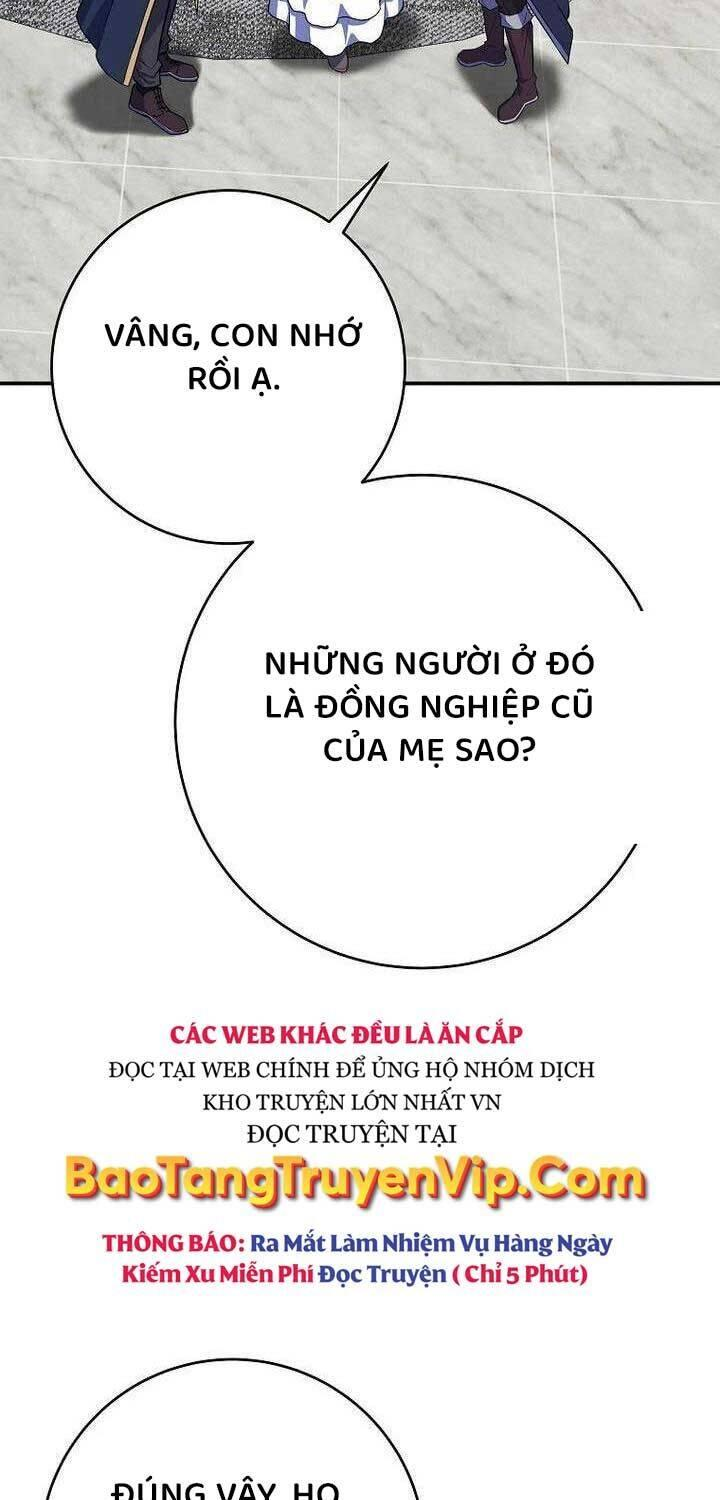quangcao: (62, 1020, 648, 1290)
